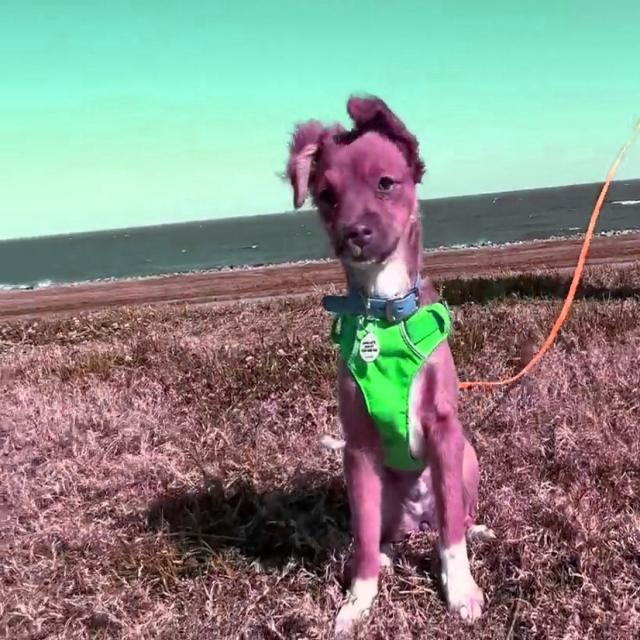Dog: (274, 94, 484, 634)
